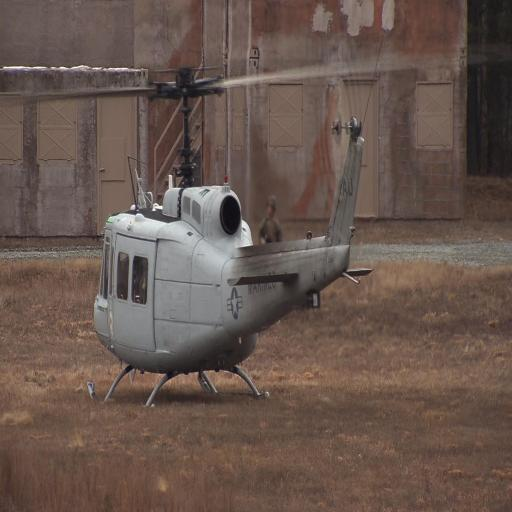helicopter: (1, 65, 423, 405)
